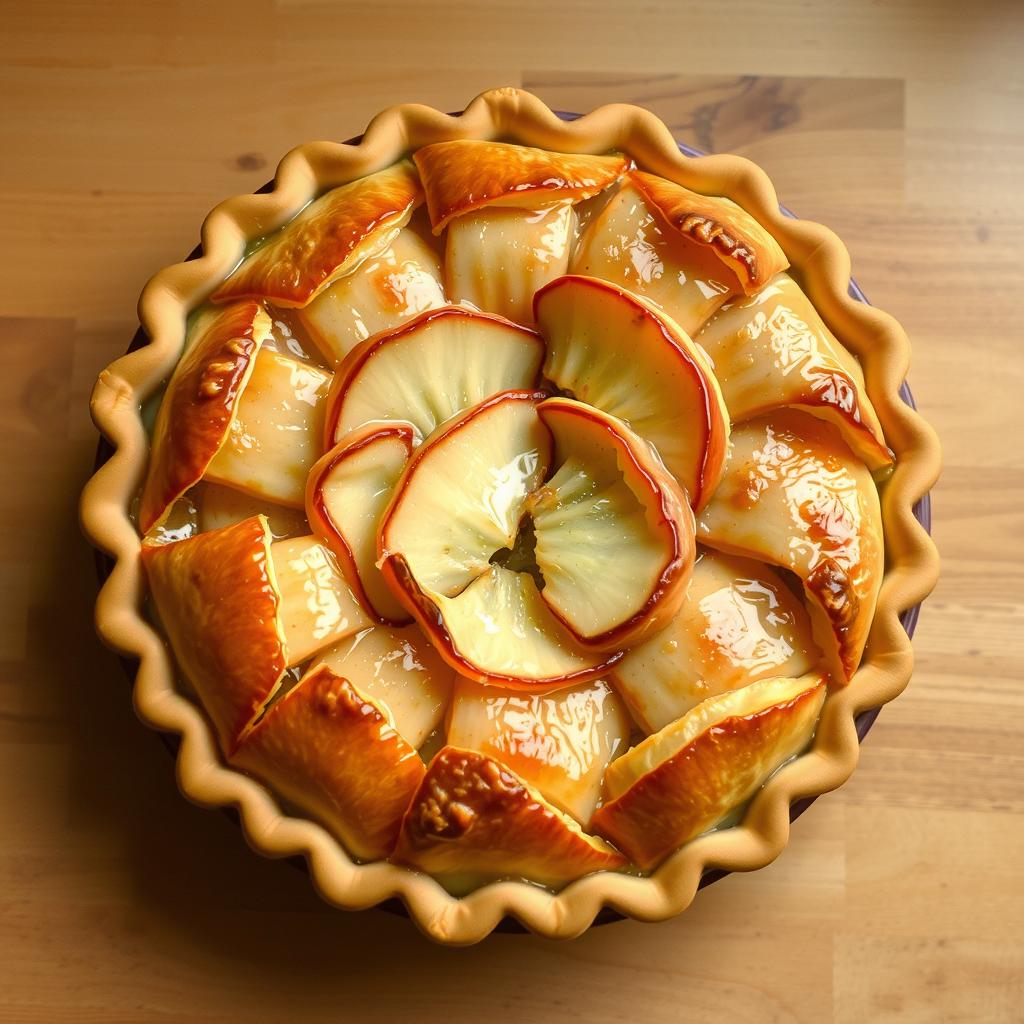pie: (77, 84, 954, 960)
